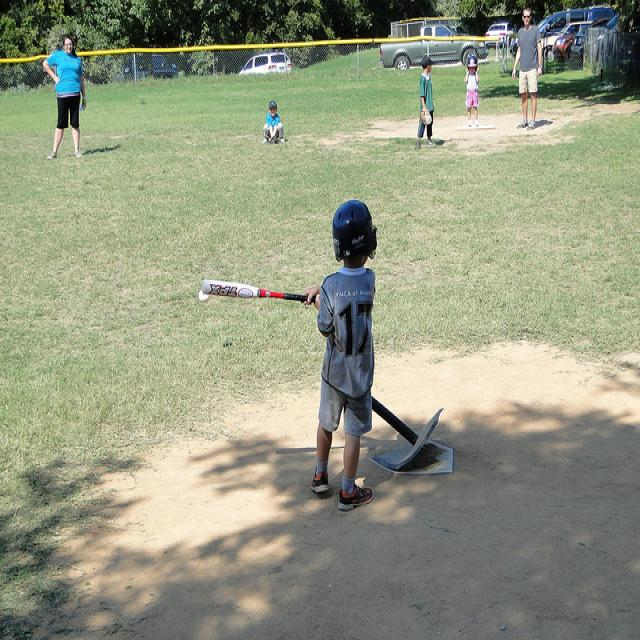Vehicle: (378, 24, 489, 70), (570, 11, 640, 57), (536, 7, 614, 38), (539, 23, 591, 61), (113, 54, 179, 82), (240, 52, 292, 76), (482, 23, 517, 49), (555, 29, 571, 61)
